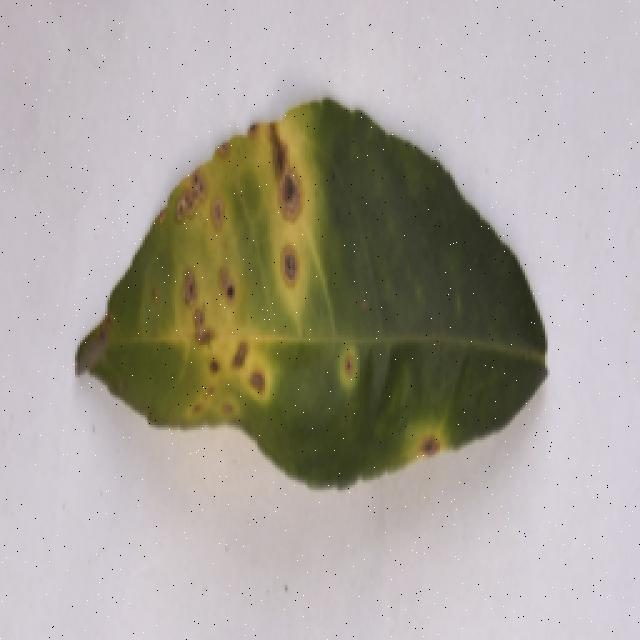canker: (85, 63, 551, 509)
